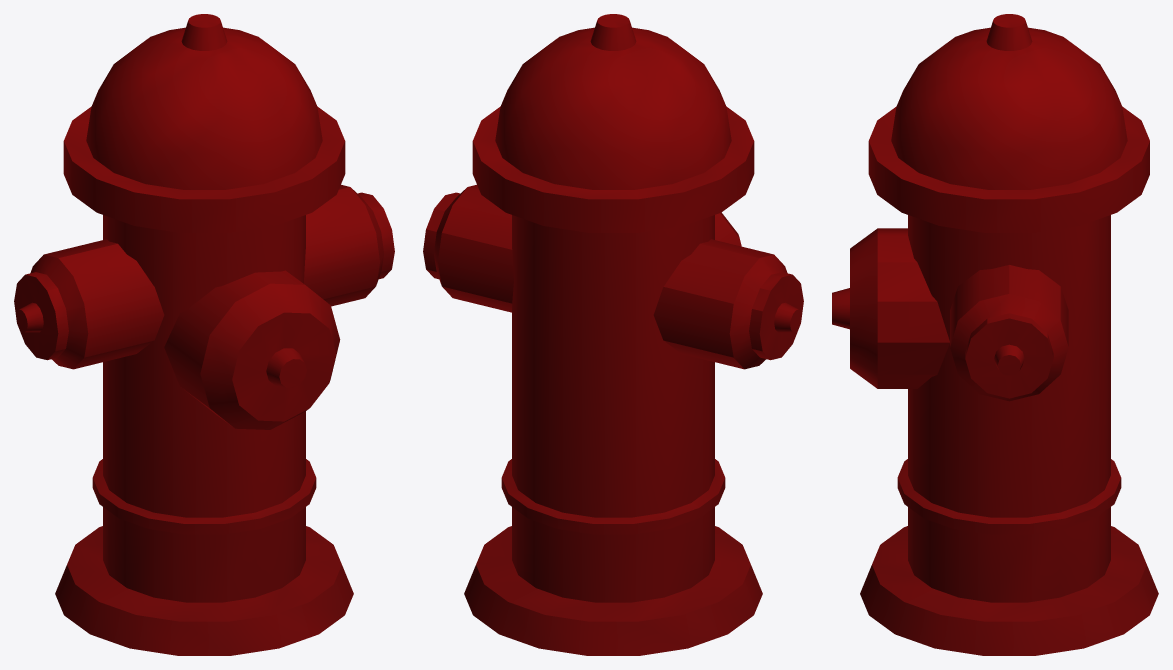
The model's file is FireHydrant.glb.
3 views of the same model, side by side, from view 1: azimuth 30°, elevation 25°; view 2: azimuth 150°, elevation 25°; view 3: azimuth 270°, elevation 25° (orthographic).
Visible parts, largest first — view 1: FireHydrant; view 2: FireHydrant; view 3: FireHydrant.
Part boxes in pixels (x1,y1,x2,y2): FireHydrant: [14, 14, 394, 655]; FireHydrant: [423, 14, 803, 655]; FireHydrant: [832, 14, 1158, 655].
Bounding box in the file's own units: 0.5151 × 0.7724 × 0.3992.
